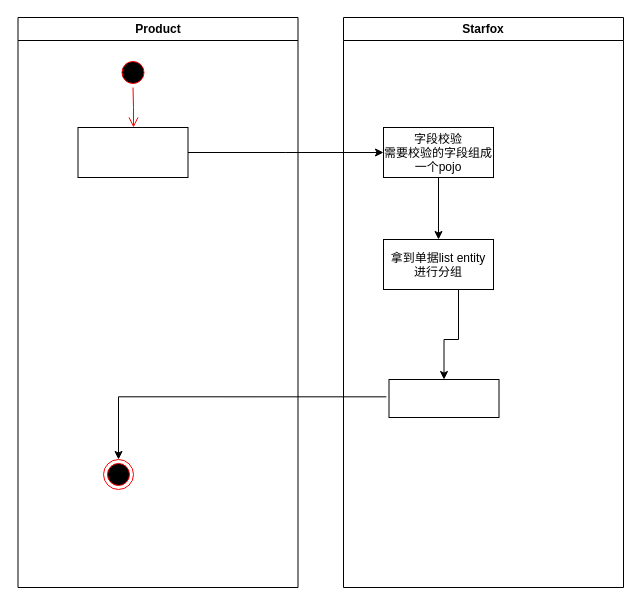
The diagram is 641 pixels wide and 605 high, and some of its shapes have lost their labels. The centre of each missing label's shape, as x and y in pixels:
message listener: (132,152)
创建新单据: (443,398)
